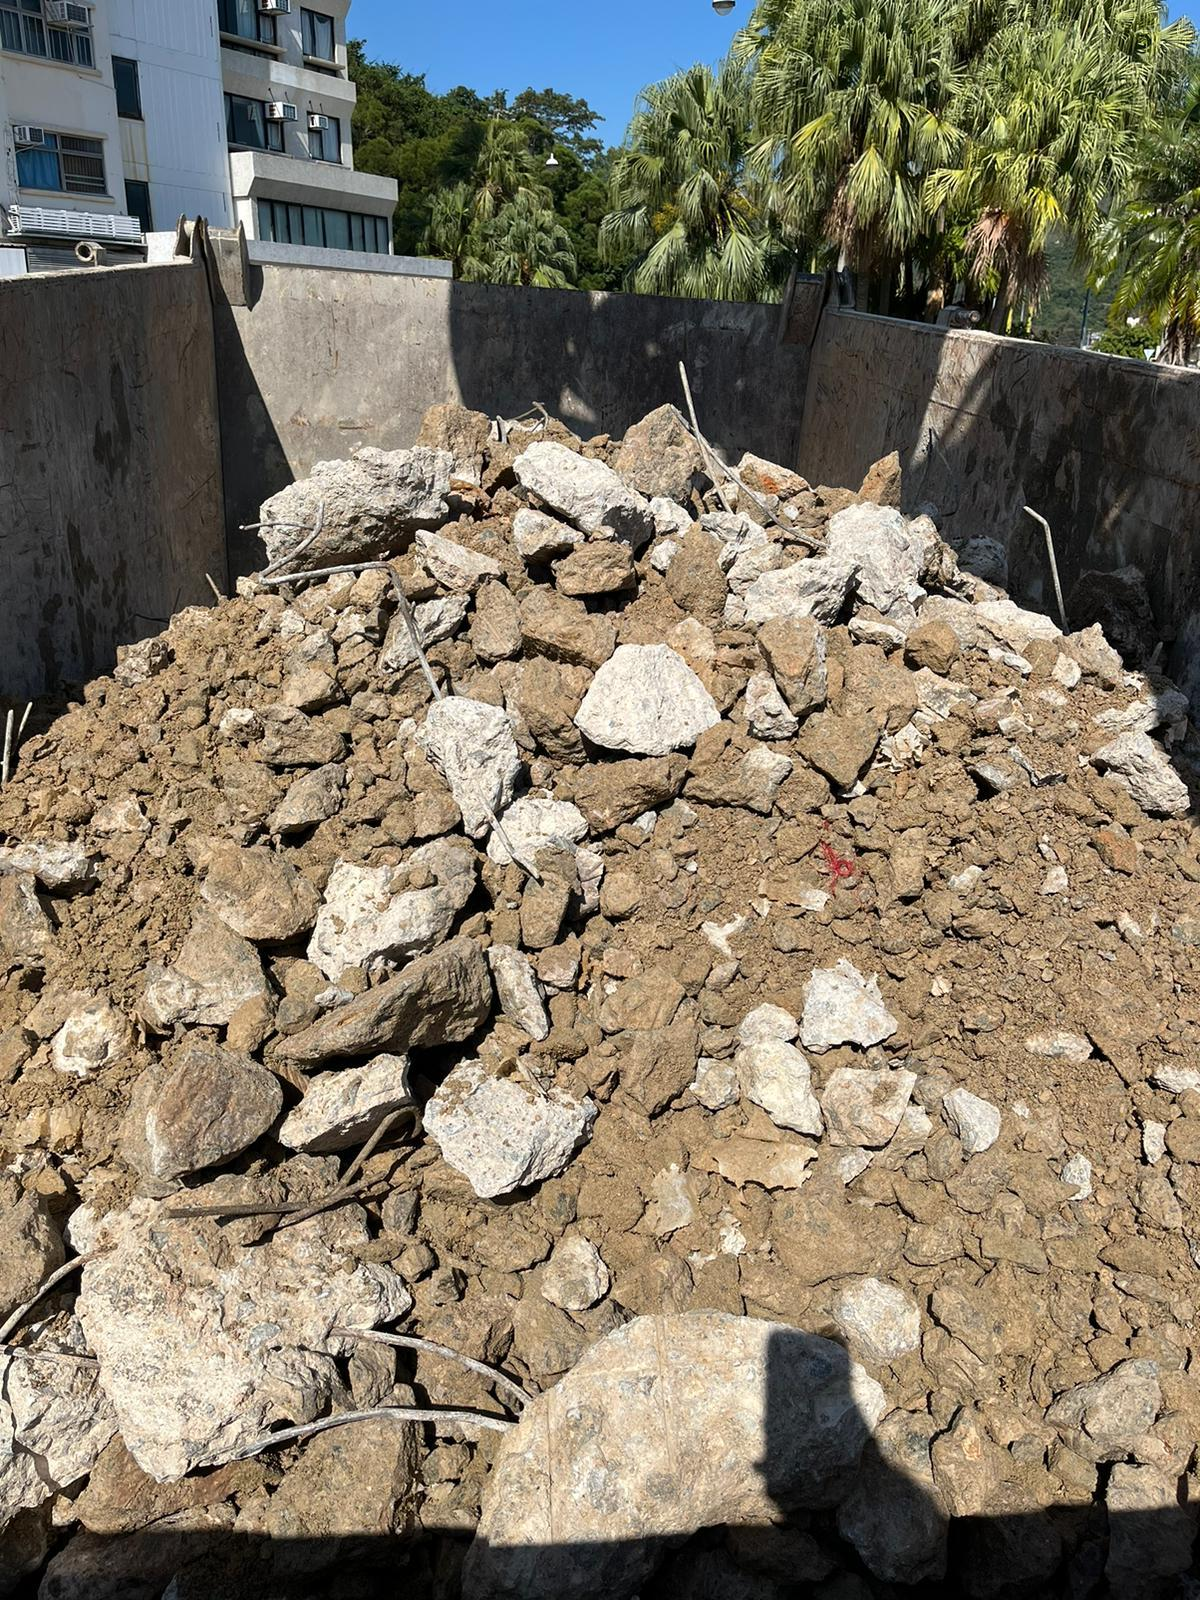dirt: (1, 398, 1197, 1592)
stone: (421, 1051, 592, 1198), (572, 640, 721, 755), (798, 954, 897, 1051)
